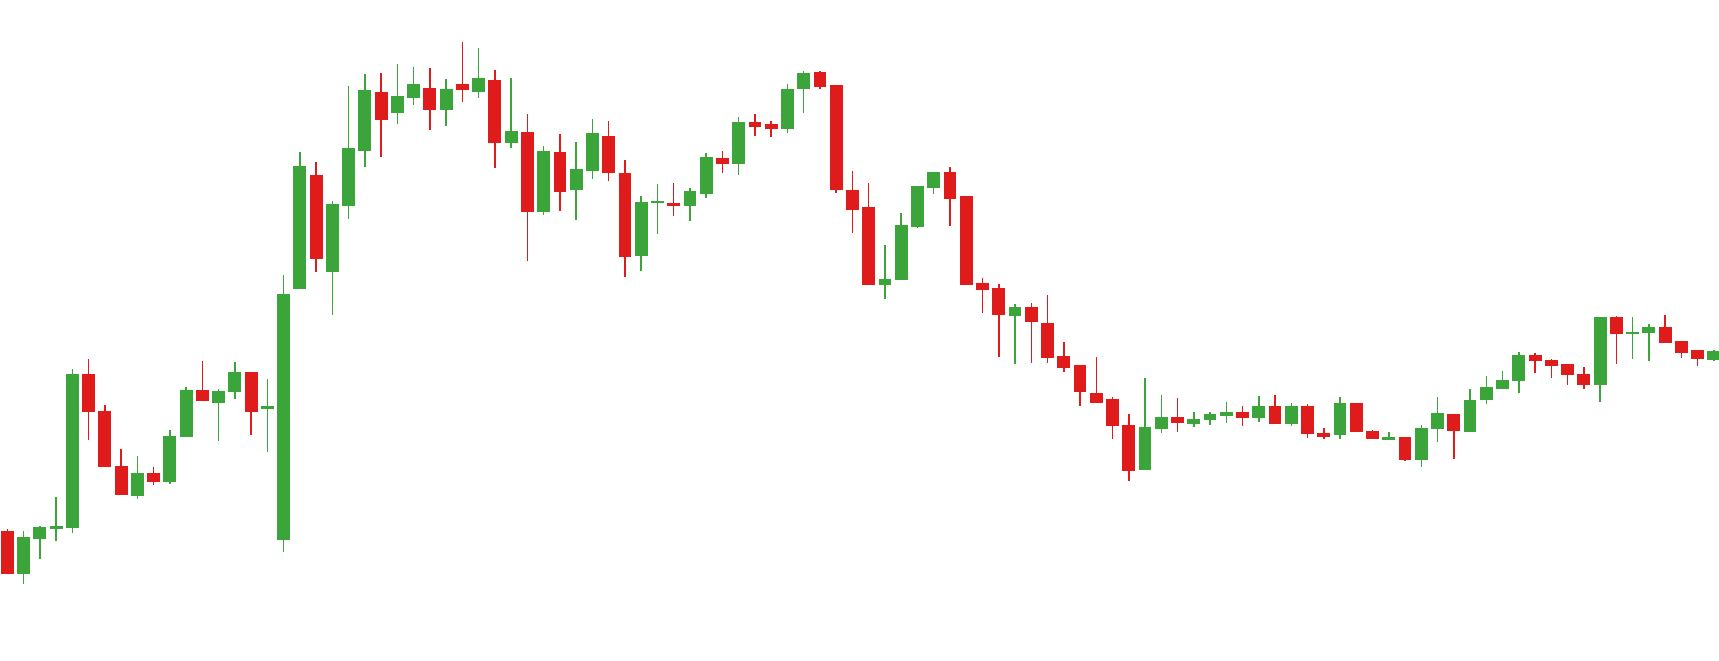buy: (517, 146, 652, 284)
